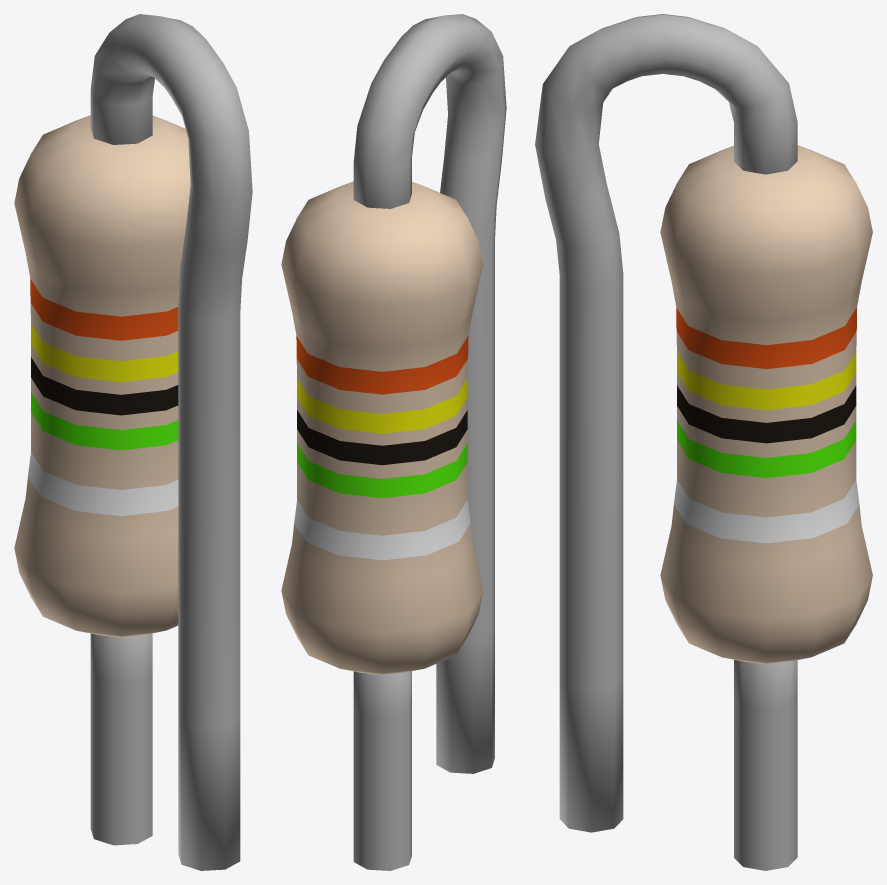
The model's file is resistorVertical.fbx.
3 views of the same model, side by side, from view 1: azimuth 30°, elevation 25°; view 2: azimuth 150°, elevation 25°; view 3: azimuth 270°, elevation 25° (orthographic). The views are drawn at different scales.
Visible parts, largest first — view 1: resistorVertical; view 2: resistorVertical; view 3: resistorVertical.
Boxes of the visible parts, left/top/right/bottom form: resistorVertical: left=14, top=14, right=252, bottom=870; resistorVertical: left=281, top=14, right=506, bottom=870; resistorVertical: left=535, top=14, right=872, bottom=870.
Size of the model in its own units: 33.28 by 145 by 52.89.
